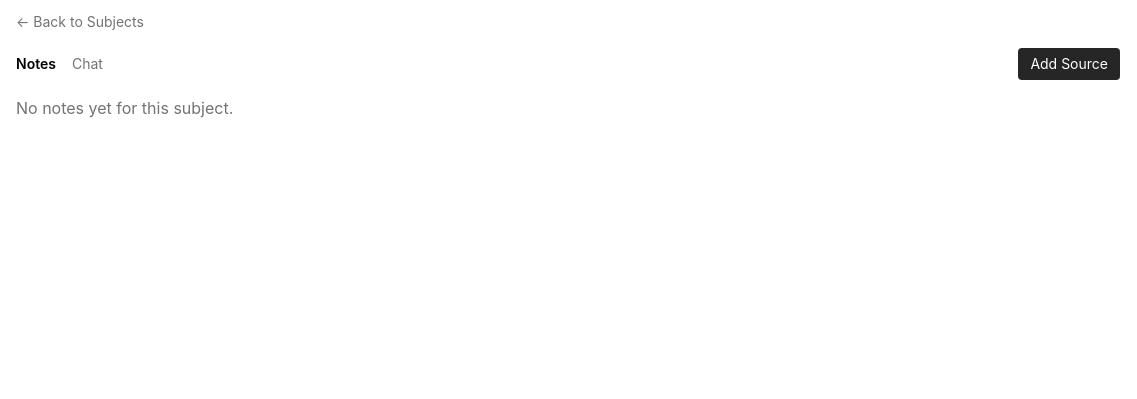
shows an ingest error without crashing and stops the processing spinner
The image size is (1137, 399).
Expected: the text "No notes yet for this subject." is shown, [16,98,233,118]
Click the button "Add Source": x=1069, y=64 [1018,48,1120,80]
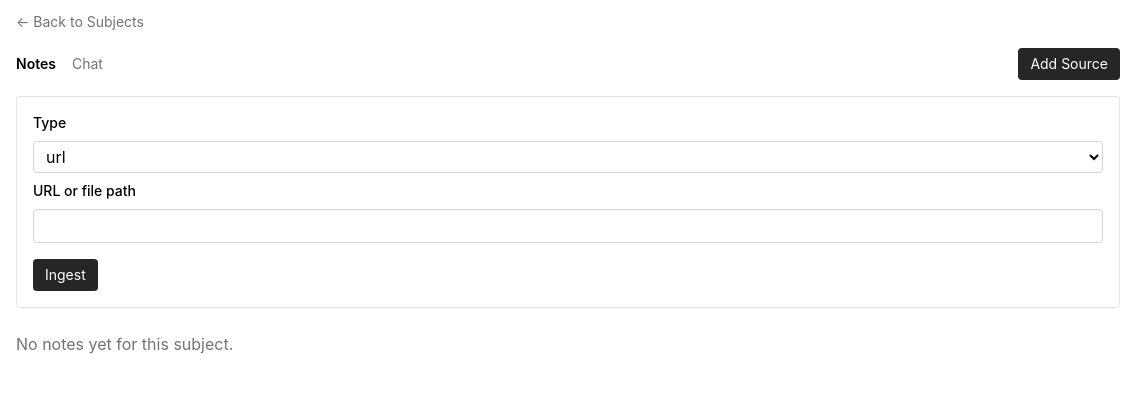
In the field labelled "URL or file path": x=568, y=226 [33,209,1103,243], type "https://example.com/article"
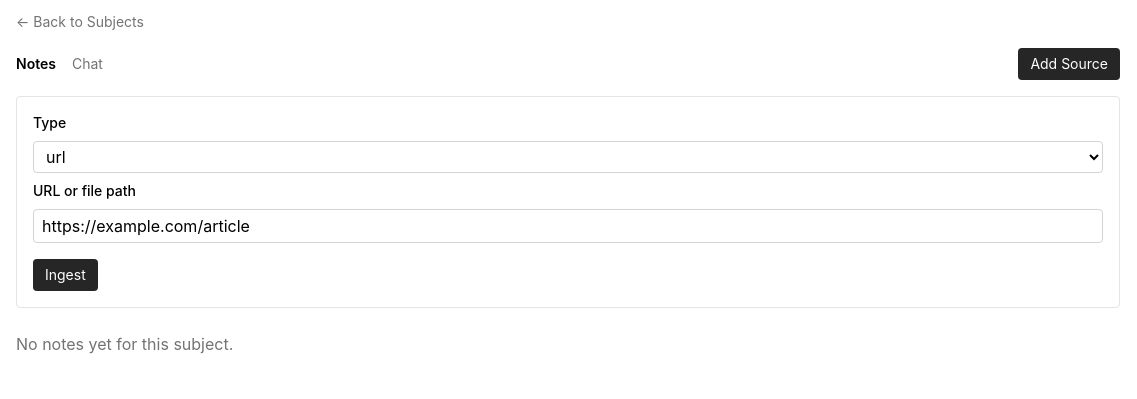
Click the button "Ingest": x=65, y=275 [33,259,98,291]
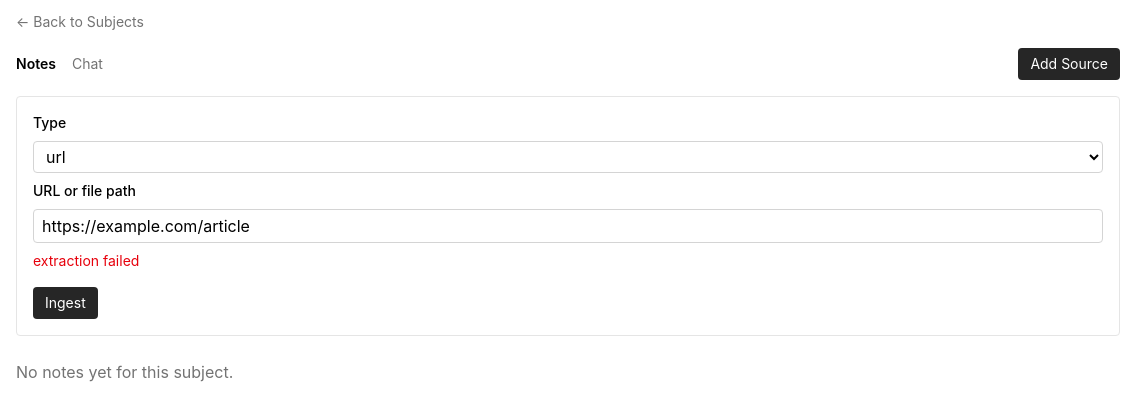
Expected: the text "extraction failed" is shown, [33,252,139,269]
